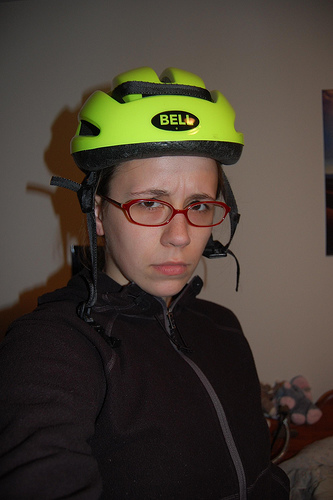helmet: (44, 49, 254, 160)
